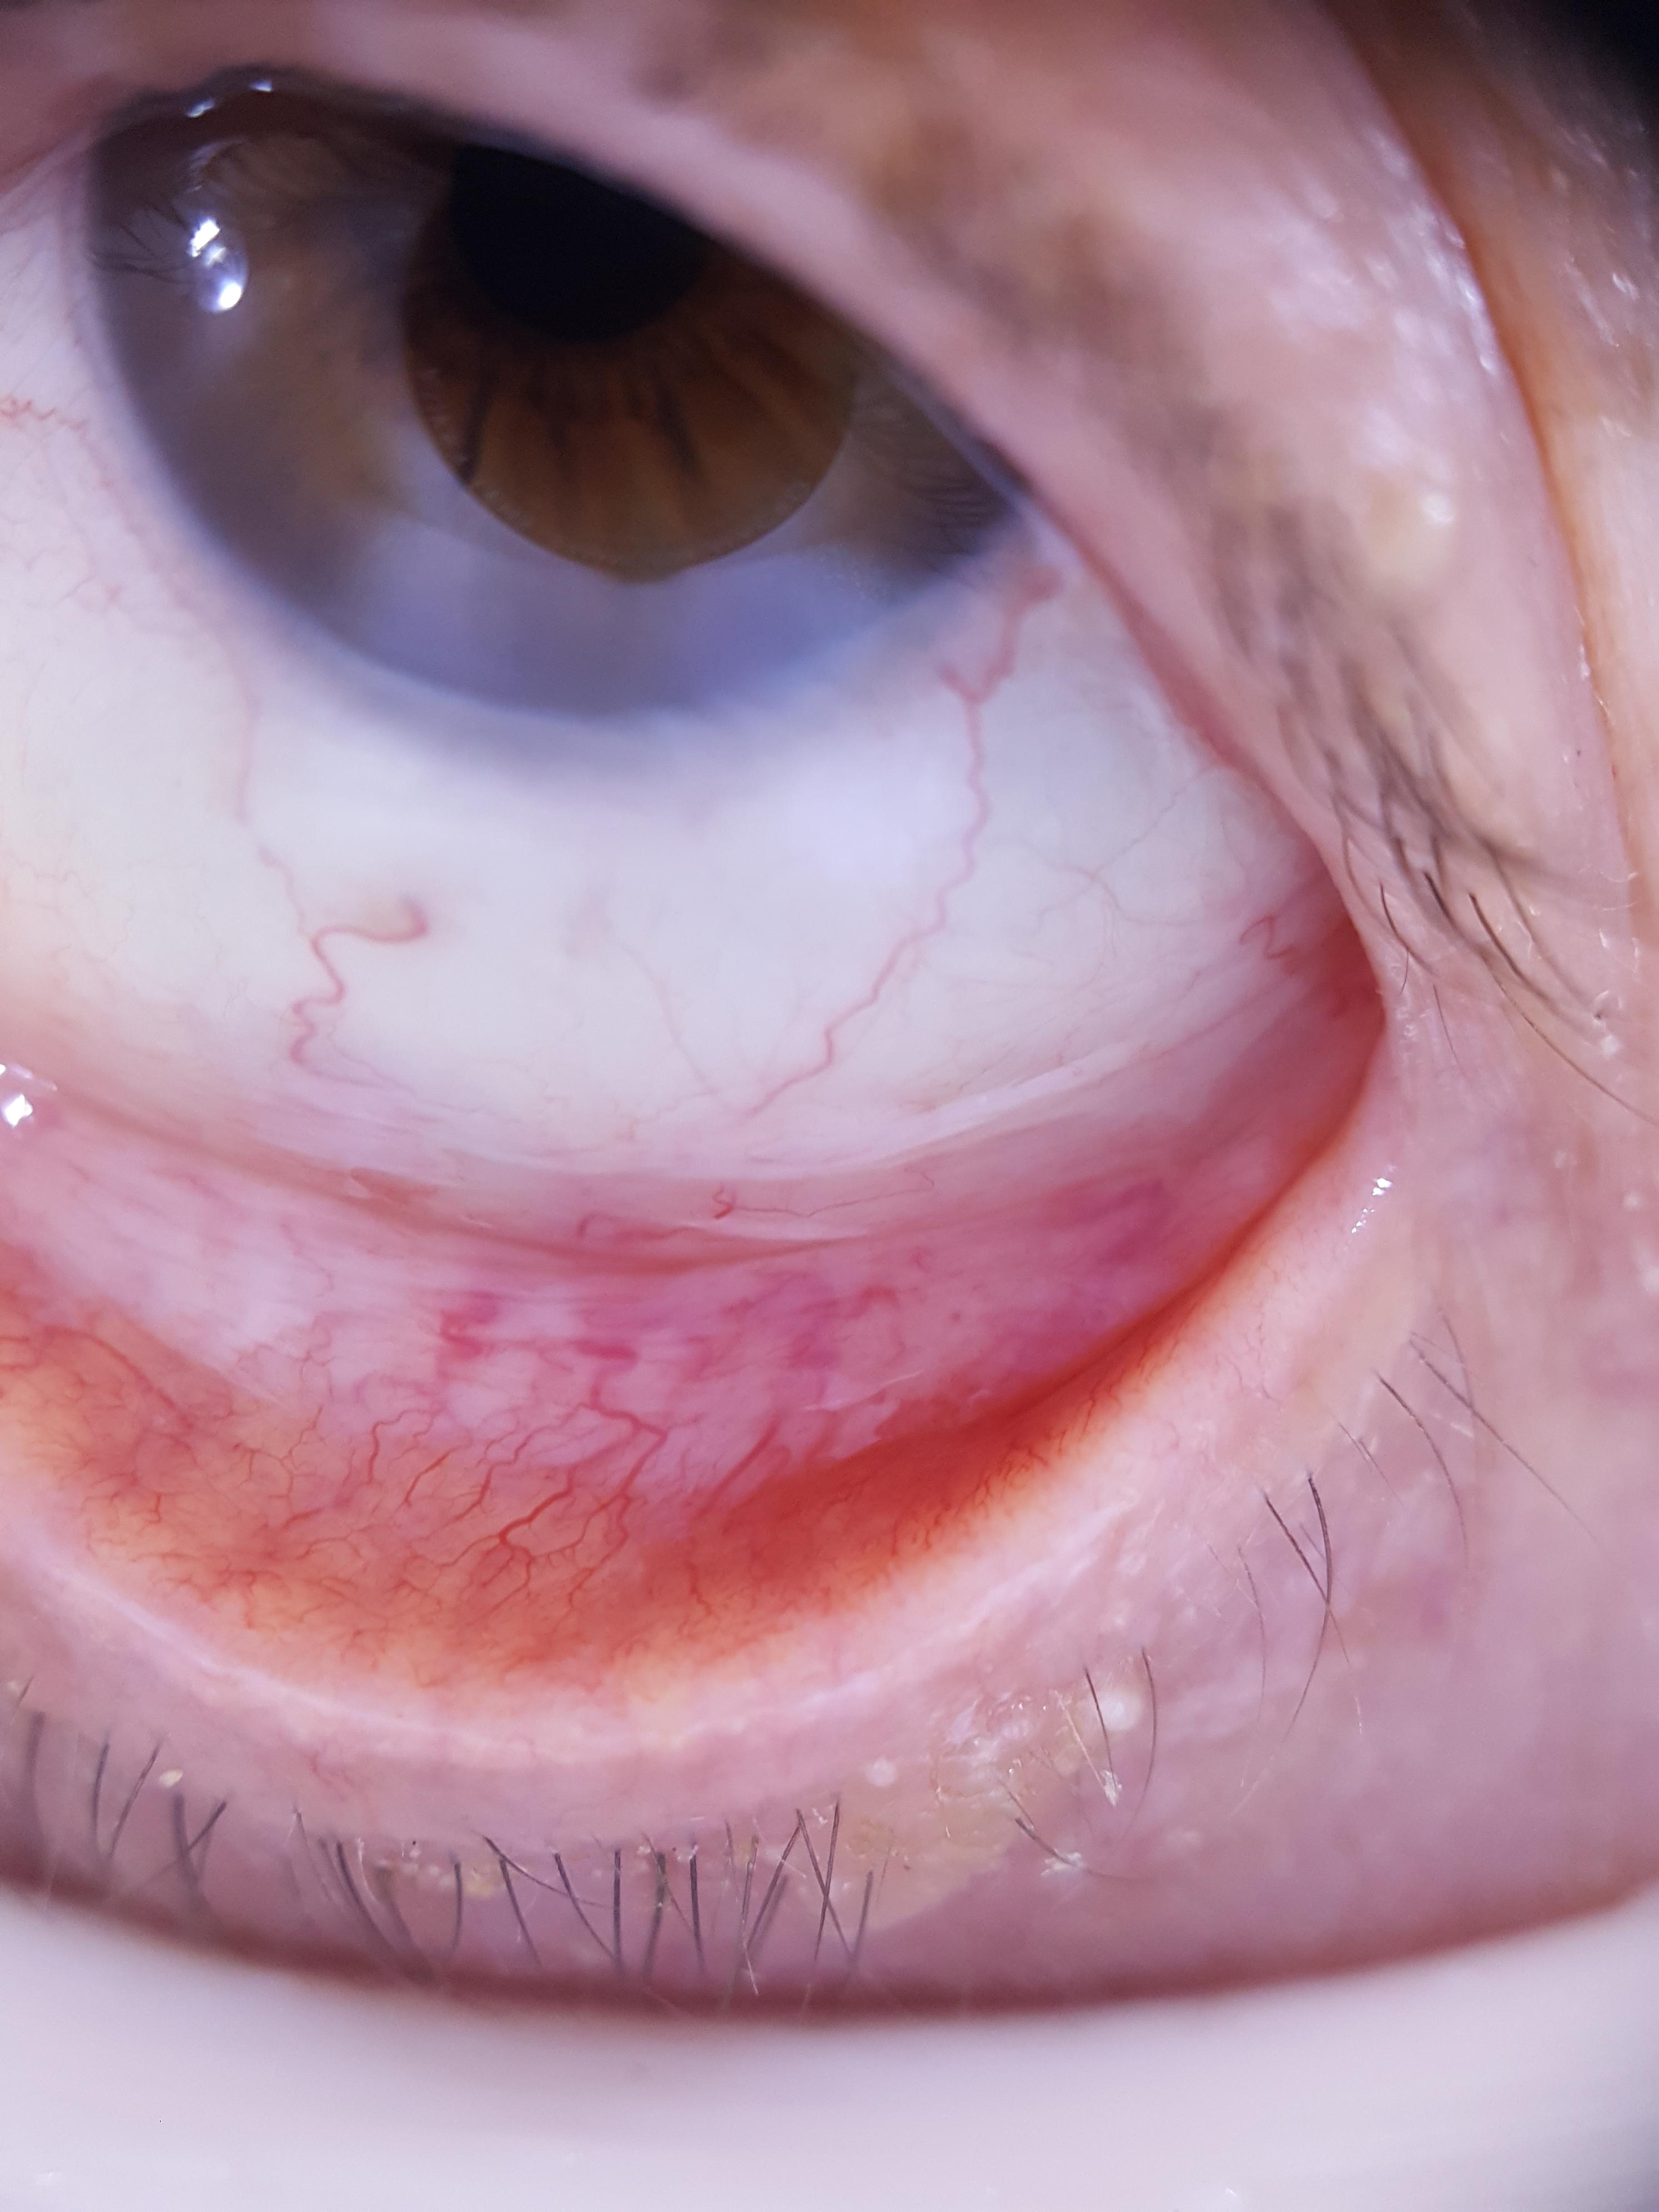forniceal: (0, 1047, 1293, 1480)
forniceal_palpebral: (0, 1047, 1293, 1629)
palpebral: (19, 1085, 1303, 1629)
